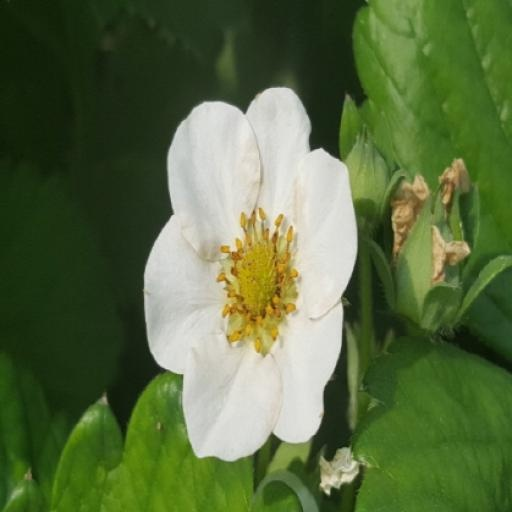Blossom Blight: (208, 204, 301, 356)
